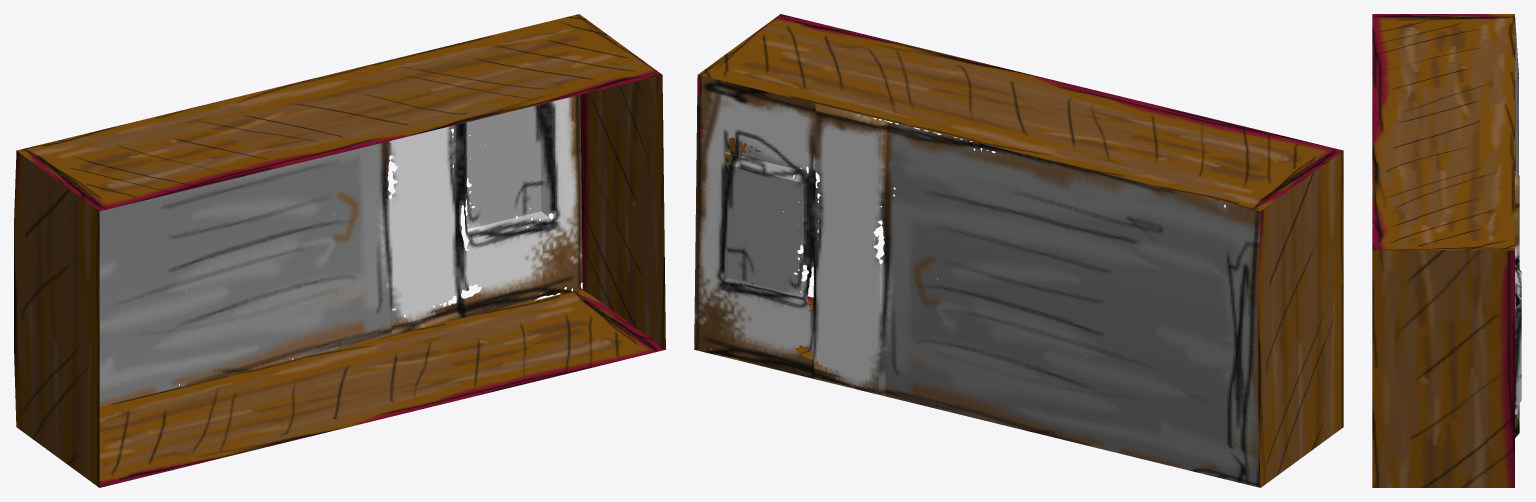
Rendered from kud_furniture02.FBX.
The picture shows the model from 3 angles, left to right: view 1: azimuth 30°, elevation 25°; view 2: azimuth 150°, elevation 25°; view 3: azimuth 270°, elevation 25°; orthographic projection. The views are drawn at different scales.
Parts seen in each view (by area): view 1: bed; view 2: bed; view 3: bed.
Part boxes in pixels (<box>): bed: <box>14,14,665,487</box>; bed: <box>694,14,1343,487</box>; bed: <box>1372,14,1521,487</box>.
Bounding box in the file's own units: 198 × 52.61 × 92.15.
